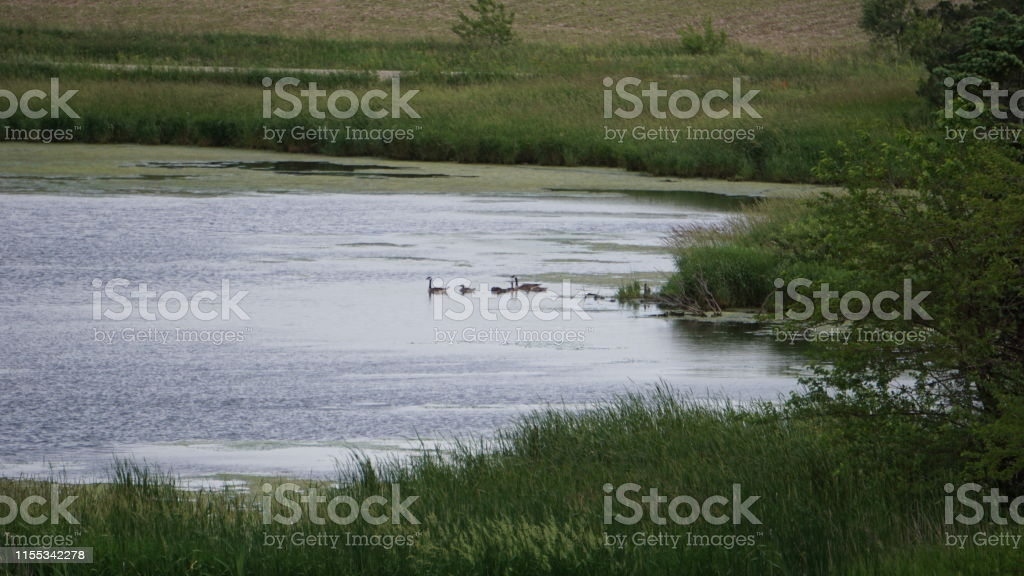goose: (510, 272, 542, 292), (423, 275, 451, 295)
